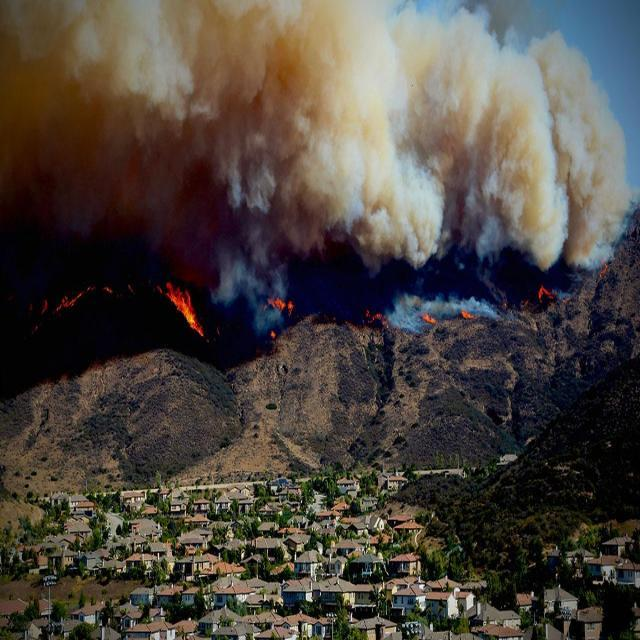Smoke: (325, 38, 600, 228)
